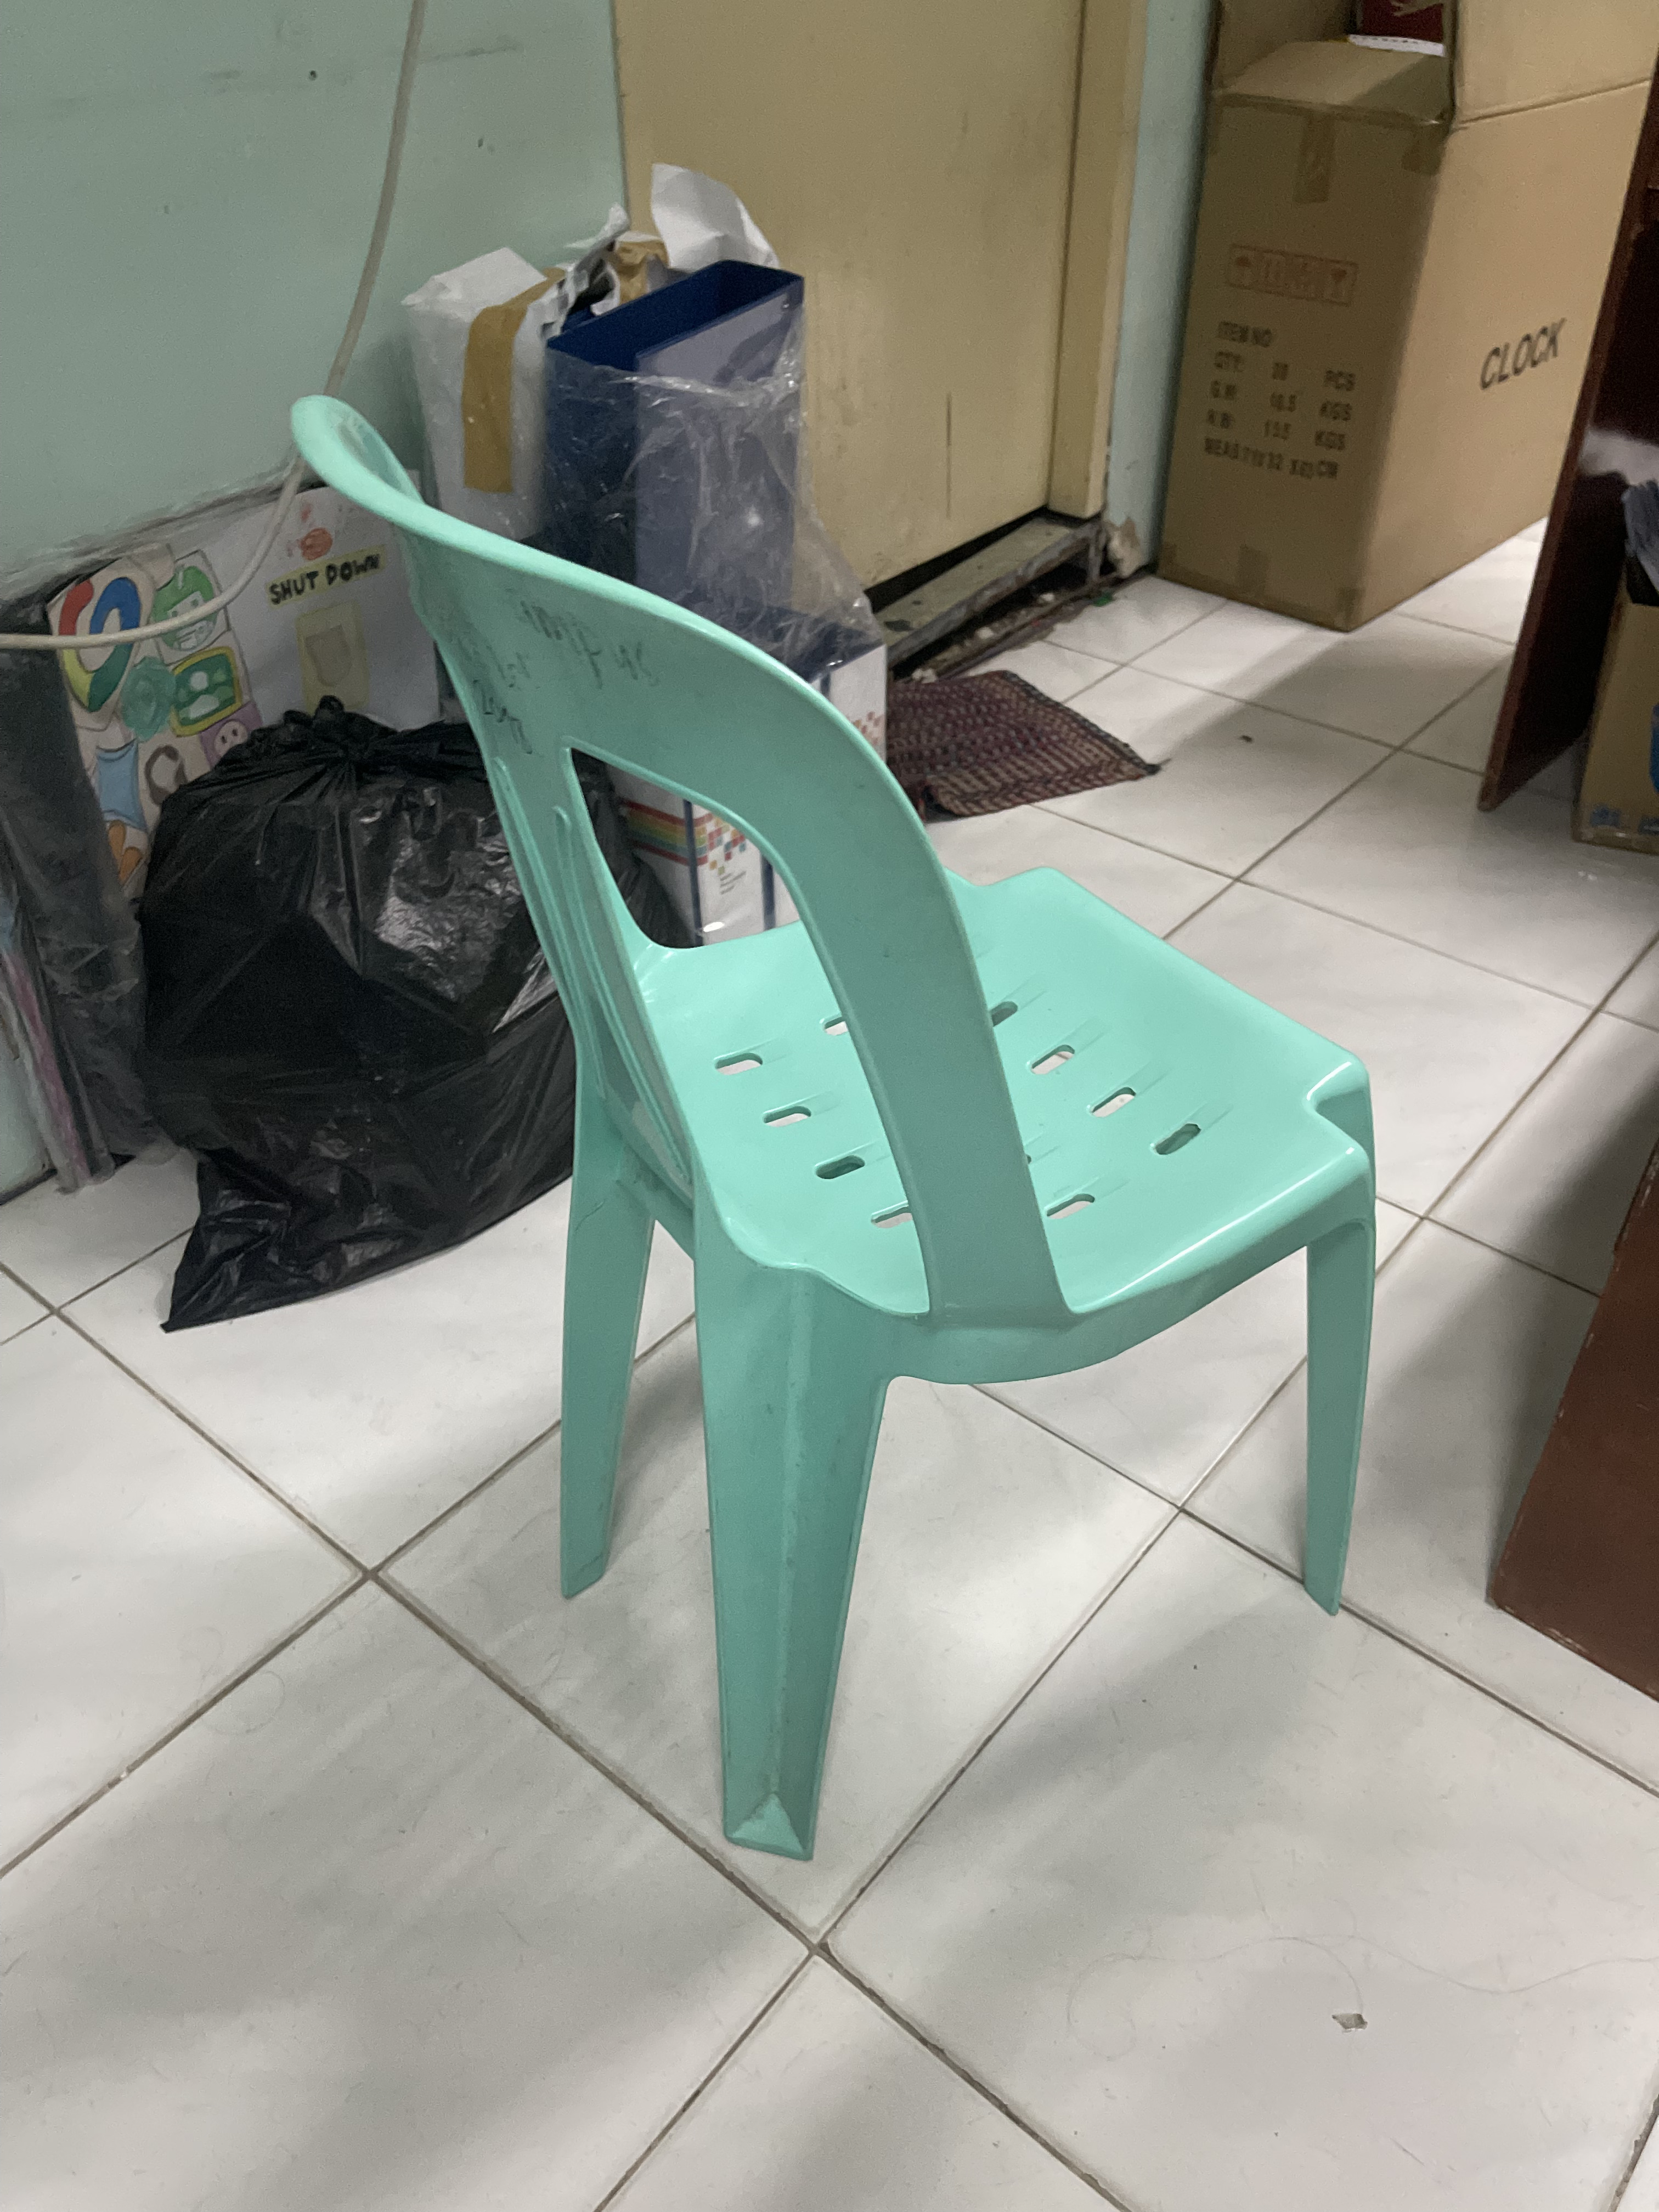chair2: (282, 390, 1399, 1862)
